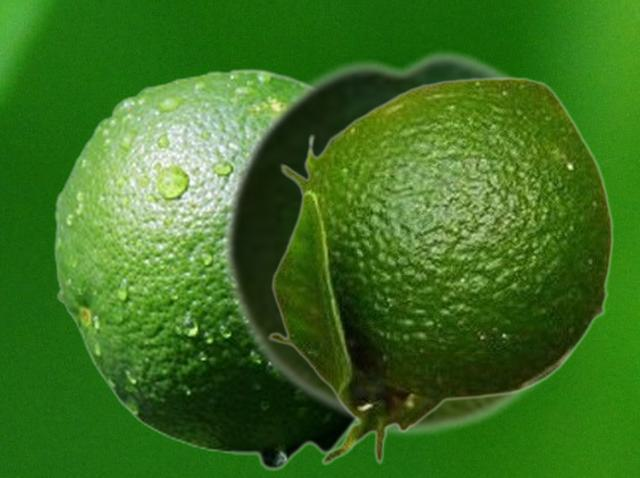dalandan: (219, 45, 608, 439), (266, 76, 613, 465), (53, 67, 352, 471)
